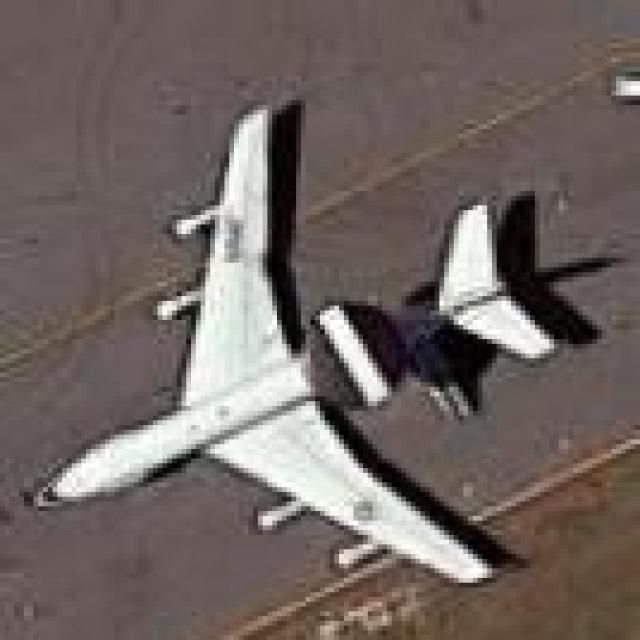E-3_TopDown: (23, 97, 626, 610)
